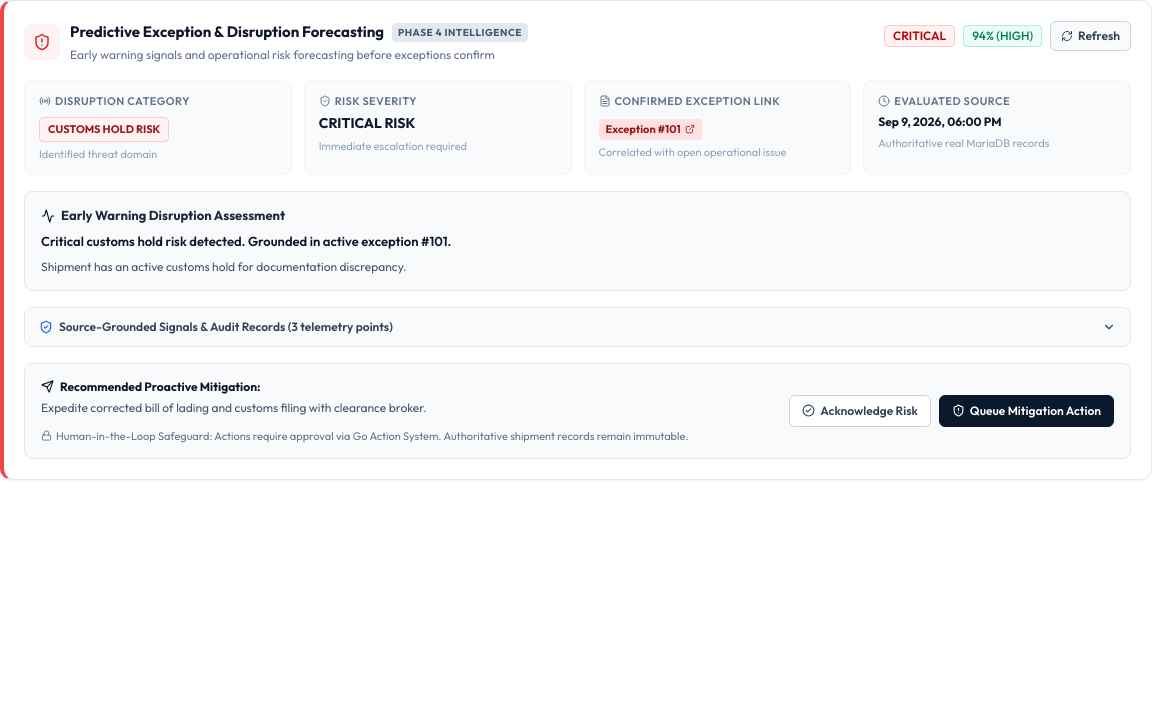
Test: ShipmentDisruptionForecastCard › expands collapsible supporting signals when toggled
Check: the text "Source-Grounded Signals & Audit Records (3 telemetry points)" is shown, box 39,318 -> 393,336
Note: Toggle expand
Click the button "Source-Grounded Signals & Audit Records (3 telemetry points)" at x=175, y=326, box 25,308 -> 1130,346
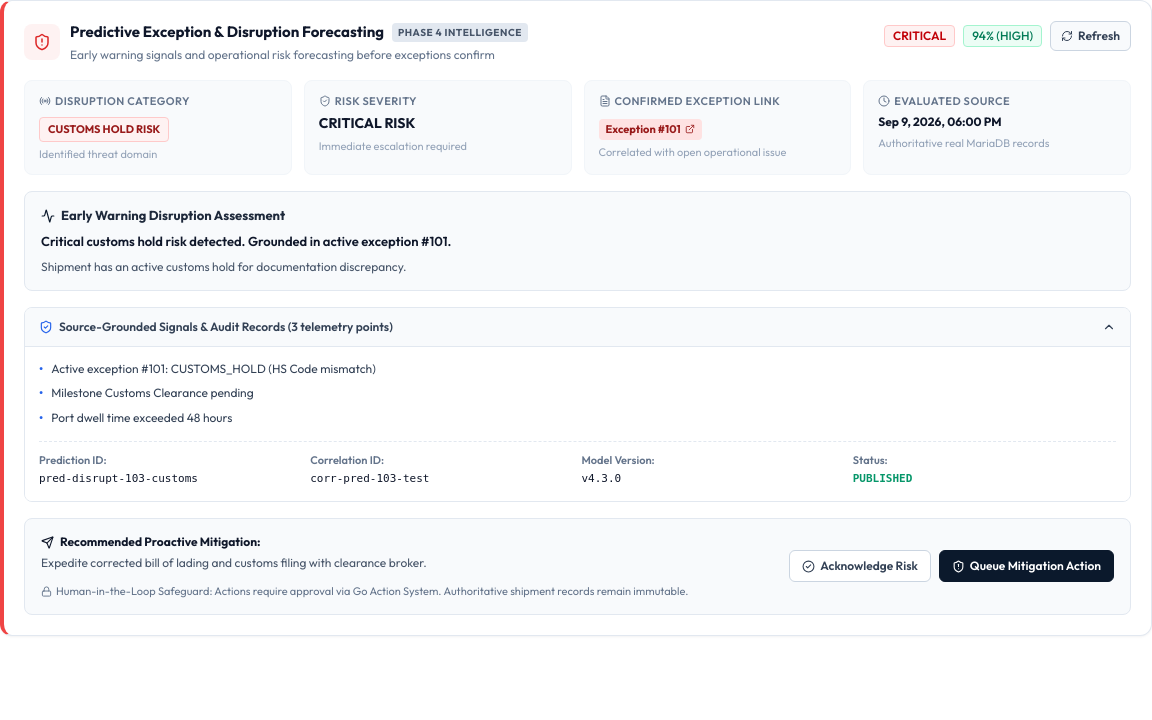
Check: the element with test id "disruption-evidence-content" is shown, box 25,346 -> 1130,501
Check: the text "Active exception #101: CUSTOMS_HOLD (HS Code mismatch)" is shown, box 51,361 -> 376,378
Check: the text "pred-disrupt-103-customs" is shown, box 39,472 -> 198,485
